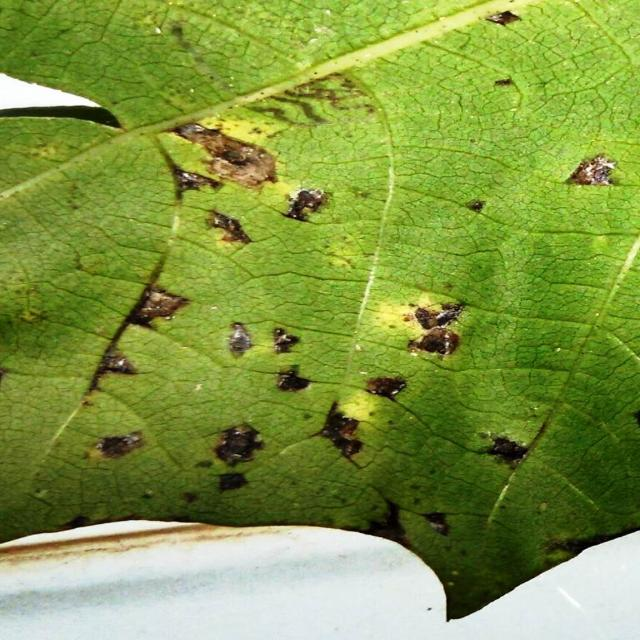Bacterial Blight: (73, 114, 547, 504)
